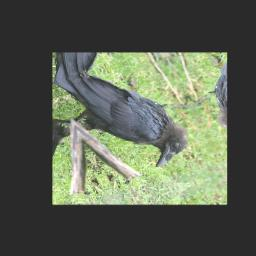Crow: (53, 57, 200, 183)
